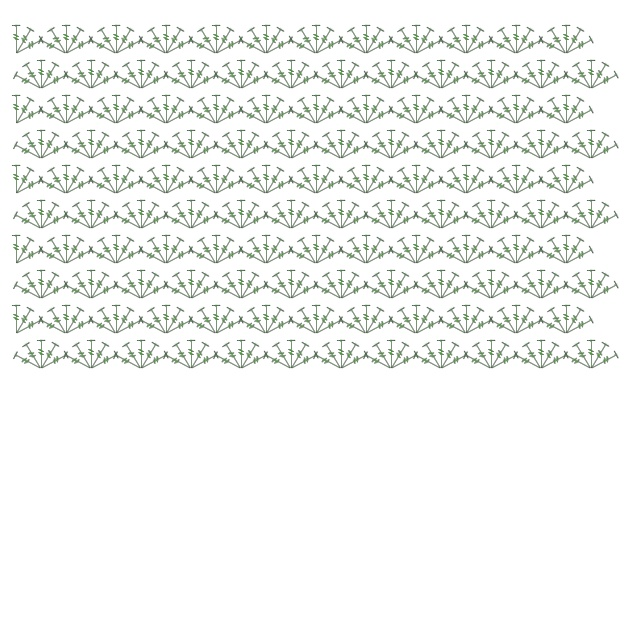fan: (12, 26, 36, 57), (46, 26, 70, 57), (62, 26, 86, 57), (96, 26, 120, 57), (112, 26, 136, 57), (146, 26, 170, 57), (162, 26, 186, 57), (196, 26, 220, 57), (212, 26, 236, 57), (246, 26, 270, 57), (262, 26, 286, 57), (296, 26, 320, 57), (312, 26, 336, 57), (346, 26, 370, 57), (362, 26, 386, 57), (396, 26, 420, 57), (412, 26, 436, 57), (446, 26, 470, 57), (462, 26, 486, 57), (496, 26, 520, 57), (512, 26, 536, 57), (546, 26, 570, 57), (562, 26, 586, 57), (21, 61, 45, 92), (37, 61, 61, 92), (71, 61, 95, 92), (87, 61, 111, 92), (121, 61, 145, 92), (137, 61, 161, 92), (171, 61, 195, 92), (187, 61, 211, 92), (221, 61, 245, 92), (237, 61, 261, 92), (271, 61, 295, 92), (287, 61, 311, 92), (321, 61, 345, 92), (337, 61, 361, 92), (371, 61, 395, 92), (387, 61, 411, 92), (421, 61, 445, 92), (437, 61, 461, 92), (471, 61, 495, 92), (487, 61, 511, 92), (521, 61, 545, 92), (537, 61, 561, 92), (571, 61, 595, 92), (587, 61, 611, 92), (12, 96, 36, 127), (46, 96, 70, 127), (62, 96, 86, 127), (96, 96, 120, 127), (112, 96, 136, 127), (146, 96, 170, 127), (162, 96, 186, 127), (196, 96, 220, 127), (212, 96, 236, 127), (246, 96, 270, 127), (262, 96, 286, 127), (296, 96, 320, 127), (312, 96, 336, 127), (346, 96, 370, 127), (362, 96, 386, 127), (396, 96, 420, 127), (412, 96, 436, 127), (446, 96, 470, 127), (462, 96, 486, 127), (496, 96, 520, 127), (512, 96, 536, 127), (546, 96, 570, 127), (562, 96, 586, 127), (21, 131, 45, 162), (37, 131, 61, 162), (71, 131, 95, 162), (87, 131, 111, 162), (121, 131, 145, 162), (137, 131, 161, 162), (171, 131, 195, 162), (187, 131, 211, 162), (221, 131, 245, 162), (237, 131, 261, 162), (271, 131, 295, 162), (287, 131, 311, 162), (321, 131, 345, 162), (337, 131, 361, 162), (371, 131, 395, 162), (387, 131, 411, 162), (421, 131, 445, 162), (437, 131, 461, 162), (471, 131, 495, 162), (487, 131, 511, 162), (521, 131, 545, 162), (537, 131, 561, 162), (571, 131, 595, 162), (587, 131, 611, 162), (12, 166, 36, 197), (46, 166, 70, 197), (62, 166, 86, 197), (96, 166, 120, 197), (112, 166, 136, 197), (146, 166, 170, 197), (162, 166, 186, 197), (196, 166, 220, 197), (212, 166, 236, 197), (246, 166, 270, 197), (262, 166, 286, 197), (296, 166, 320, 197), (312, 166, 336, 197), (346, 166, 370, 197), (362, 166, 386, 197), (396, 166, 420, 197), (412, 166, 436, 197), (446, 166, 470, 197), (462, 166, 486, 197), (496, 166, 520, 197), (512, 166, 536, 197), (546, 166, 570, 197), (562, 166, 586, 197), (21, 201, 45, 232), (37, 201, 61, 232), (71, 201, 95, 232), (87, 201, 111, 232), (121, 201, 145, 232), (137, 201, 161, 232), (171, 201, 195, 232), (187, 201, 211, 232), (221, 201, 245, 232), (237, 201, 261, 232), (271, 201, 295, 232), (287, 201, 311, 232), (321, 201, 345, 232), (337, 201, 361, 232), (371, 201, 395, 232), (387, 201, 411, 232), (421, 201, 445, 232), (437, 201, 461, 232), (471, 201, 495, 232), (487, 201, 511, 232), (521, 201, 545, 232), (537, 201, 561, 232), (571, 201, 595, 232), (587, 201, 611, 232), (12, 236, 36, 267), (46, 236, 70, 267), (62, 236, 86, 267), (96, 236, 120, 267), (112, 236, 136, 267), (146, 236, 170, 267), (162, 236, 186, 267), (196, 236, 220, 267), (212, 236, 236, 267), (246, 236, 270, 267), (262, 236, 286, 267), (296, 236, 320, 267), (312, 236, 336, 267), (346, 236, 370, 267), (362, 236, 386, 267), (396, 236, 420, 267), (412, 236, 436, 267), (446, 236, 470, 267), (462, 236, 486, 267), (496, 236, 520, 267), (512, 236, 536, 267), (546, 236, 570, 267), (562, 236, 586, 267), (21, 271, 45, 302), (37, 271, 61, 302), (71, 271, 95, 302), (87, 271, 111, 302), (121, 271, 145, 302), (137, 271, 161, 302), (171, 271, 195, 302), (187, 271, 211, 302), (221, 271, 245, 302), (237, 271, 261, 302), (271, 271, 295, 302), (287, 271, 311, 302), (321, 271, 345, 302), (337, 271, 361, 302), (371, 271, 395, 302), (387, 271, 411, 302), (421, 271, 445, 302), (437, 271, 461, 302), (471, 271, 495, 302), (487, 271, 511, 302), (521, 271, 545, 302), (537, 271, 561, 302), (571, 271, 595, 302), (587, 271, 611, 302), (12, 306, 36, 337), (46, 306, 70, 337), (62, 306, 86, 337), (96, 306, 120, 337), (112, 306, 136, 337), (146, 306, 170, 337), (162, 306, 186, 337), (196, 306, 220, 337), (212, 306, 236, 337), (246, 306, 270, 337), (262, 306, 286, 337), (296, 306, 320, 337), (312, 306, 336, 337), (346, 306, 370, 337), (362, 306, 386, 337), (396, 306, 420, 337), (412, 306, 436, 337), (446, 306, 470, 337), (462, 306, 486, 337), (496, 306, 520, 337), (512, 306, 536, 337), (546, 306, 570, 337), (562, 306, 586, 337), (21, 341, 45, 372), (37, 341, 61, 372), (71, 341, 95, 372), (87, 341, 111, 372), (121, 341, 145, 372), (137, 341, 161, 372), (171, 341, 195, 372), (187, 341, 211, 372), (221, 341, 245, 372), (237, 341, 261, 372), (271, 341, 295, 372), (287, 341, 311, 372), (321, 341, 345, 372), (337, 341, 361, 372), (371, 341, 395, 372), (387, 341, 411, 372), (421, 341, 445, 372), (437, 341, 461, 372), (471, 341, 495, 372), (487, 341, 511, 372), (521, 341, 545, 372), (537, 341, 561, 372), (571, 341, 595, 372), (587, 341, 611, 372), (14, 36, 45, 58), (37, 36, 68, 58), (64, 36, 95, 58), (87, 36, 118, 58), (114, 36, 145, 58), (137, 36, 168, 58), (164, 36, 195, 58), (187, 36, 218, 58), (214, 36, 245, 58), (237, 36, 268, 58), (264, 36, 295, 58), (287, 36, 318, 58), (314, 36, 345, 58), (337, 36, 368, 58), (364, 36, 395, 58), (387, 36, 418, 58), (414, 36, 445, 58), (437, 36, 468, 58), (464, 36, 495, 58), (487, 36, 518, 58), (514, 36, 545, 58), (537, 36, 568, 58), (564, 36, 595, 58), (12, 71, 43, 93), (39, 71, 70, 93), (62, 71, 93, 93), (89, 71, 120, 93), (112, 71, 143, 93), (139, 71, 170, 93), (162, 71, 193, 93), (189, 71, 220, 93), (212, 71, 243, 93), (239, 71, 270, 93), (262, 71, 293, 93), (289, 71, 320, 93), (312, 71, 343, 93), (339, 71, 370, 93), (362, 71, 393, 93), (389, 71, 420, 93), (412, 71, 443, 93), (439, 71, 470, 93), (462, 71, 493, 93), (489, 71, 520, 93), (512, 71, 543, 93), (539, 71, 570, 93), (562, 71, 593, 93), (589, 71, 620, 93), (14, 106, 45, 128), (37, 106, 68, 128), (64, 106, 95, 128), (87, 106, 118, 128), (114, 106, 145, 128), (137, 106, 168, 128), (164, 106, 195, 128), (187, 106, 218, 128), (214, 106, 245, 128), (237, 106, 268, 128), (264, 106, 295, 128), (287, 106, 318, 128), (314, 106, 345, 128), (337, 106, 368, 128), (364, 106, 395, 128), (387, 106, 418, 128), (414, 106, 445, 128), (437, 106, 468, 128), (464, 106, 495, 128), (487, 106, 518, 128), (514, 106, 545, 128), (537, 106, 568, 128), (564, 106, 595, 128), (12, 141, 43, 163), (39, 141, 70, 163), (62, 141, 93, 163), (89, 141, 120, 163), (112, 141, 143, 163), (139, 141, 170, 163), (162, 141, 193, 163), (189, 141, 220, 163), (212, 141, 243, 163), (239, 141, 270, 163), (262, 141, 293, 163), (289, 141, 320, 163), (312, 141, 343, 163), (339, 141, 370, 163), (362, 141, 393, 163), (389, 141, 420, 163), (412, 141, 443, 163), (439, 141, 470, 163), (462, 141, 493, 163), (489, 141, 520, 163), (512, 141, 543, 163), (539, 141, 570, 163), (562, 141, 593, 163), (589, 141, 620, 163), (14, 176, 45, 198), (37, 176, 68, 198), (64, 176, 95, 198), (87, 176, 118, 198), (114, 176, 145, 198), (137, 176, 168, 198), (164, 176, 195, 198), (187, 176, 218, 198), (214, 176, 245, 198), (237, 176, 268, 198), (264, 176, 295, 198), (287, 176, 318, 198), (314, 176, 345, 198), (337, 176, 368, 198), (364, 176, 395, 198), (387, 176, 418, 198), (414, 176, 445, 198), (437, 176, 468, 198), (464, 176, 495, 198), (487, 176, 518, 198), (514, 176, 545, 198), (537, 176, 568, 198), (564, 176, 595, 198), (12, 211, 43, 233), (39, 211, 70, 233), (62, 211, 93, 233), (89, 211, 120, 233), (112, 211, 143, 233), (139, 211, 170, 233), (162, 211, 193, 233), (189, 211, 220, 233), (212, 211, 243, 233), (239, 211, 270, 233), (262, 211, 293, 233), (289, 211, 320, 233), (312, 211, 343, 233), (339, 211, 370, 233), (362, 211, 393, 233), (389, 211, 420, 233), (412, 211, 443, 233), (439, 211, 470, 233), (462, 211, 493, 233), (489, 211, 520, 233), (512, 211, 543, 233), (539, 211, 570, 233), (562, 211, 593, 233), (589, 211, 620, 233), (14, 246, 45, 268), (37, 246, 68, 268), (64, 246, 95, 268), (87, 246, 118, 268), (114, 246, 145, 268), (137, 246, 168, 268), (164, 246, 195, 268), (187, 246, 218, 268), (214, 246, 245, 268), (237, 246, 268, 268), (264, 246, 295, 268), (287, 246, 318, 268), (314, 246, 345, 268), (337, 246, 368, 268), (364, 246, 395, 268), (387, 246, 418, 268), (414, 246, 445, 268), (437, 246, 468, 268), (464, 246, 495, 268), (487, 246, 518, 268), (514, 246, 545, 268), (537, 246, 568, 268), (564, 246, 595, 268), (12, 281, 43, 303), (39, 281, 70, 303), (62, 281, 93, 303), (89, 281, 120, 303), (112, 281, 143, 303), (139, 281, 170, 303), (162, 281, 193, 303), (189, 281, 220, 303), (212, 281, 243, 303), (239, 281, 270, 303), (262, 281, 293, 303), (289, 281, 320, 303), (312, 281, 343, 303), (339, 281, 370, 303), (362, 281, 393, 303), (389, 281, 420, 303), (412, 281, 443, 303), (439, 281, 470, 303), (462, 281, 493, 303), (489, 281, 520, 303), (512, 281, 543, 303), (539, 281, 570, 303), (562, 281, 593, 303), (589, 281, 620, 303), (14, 316, 45, 338), (37, 316, 68, 338), (64, 316, 95, 338), (87, 316, 118, 338), (114, 316, 145, 338), (137, 316, 168, 338), (164, 316, 195, 338), (187, 316, 218, 338), (214, 316, 245, 338), (237, 316, 268, 338), (264, 316, 295, 338), (287, 316, 318, 338), (314, 316, 345, 338), (337, 316, 368, 338), (364, 316, 395, 338), (387, 316, 418, 338), (414, 316, 445, 338), (437, 316, 468, 338), (464, 316, 495, 338), (487, 316, 518, 338), (514, 316, 545, 338), (537, 316, 568, 338), (564, 316, 595, 338), (12, 351, 43, 373), (39, 351, 70, 373), (62, 351, 93, 373), (89, 351, 120, 373), (112, 351, 143, 373), (139, 351, 170, 373), (162, 351, 193, 373), (189, 351, 220, 373), (212, 351, 243, 373), (239, 351, 270, 373), (262, 351, 293, 373), (289, 351, 320, 373), (312, 351, 343, 373), (339, 351, 370, 373), (362, 351, 393, 373), (389, 351, 420, 373), (412, 351, 443, 373), (439, 351, 470, 373), (462, 351, 493, 373), (489, 351, 520, 373), (512, 351, 543, 373), (539, 351, 570, 373), (562, 351, 593, 373), (589, 351, 620, 373), (11, 24, 21, 54), (61, 24, 71, 54), (111, 24, 121, 54), (161, 24, 171, 54), (211, 24, 221, 54), (261, 24, 271, 54), (311, 24, 321, 54), (361, 24, 371, 54), (411, 24, 421, 54), (461, 24, 471, 54), (511, 24, 521, 54), (561, 24, 571, 54), (36, 59, 46, 89), (86, 59, 96, 89), (136, 59, 146, 89), (186, 59, 196, 89), (236, 59, 246, 89), (286, 59, 296, 89), (336, 59, 346, 89), (386, 59, 396, 89), (436, 59, 446, 89), (486, 59, 496, 89), (536, 59, 546, 89), (586, 59, 596, 89), (11, 94, 21, 124), (61, 94, 71, 124), (111, 94, 121, 124), (161, 94, 171, 124), (211, 94, 221, 124), (261, 94, 271, 124), (311, 94, 321, 124), (361, 94, 371, 124), (411, 94, 421, 124), (461, 94, 471, 124), (511, 94, 521, 124), (561, 94, 571, 124), (36, 129, 46, 159), (86, 129, 96, 159), (136, 129, 146, 159), (186, 129, 196, 159), (236, 129, 246, 159), (286, 129, 296, 159), (336, 129, 346, 159), (386, 129, 396, 159), (436, 129, 446, 159), (486, 129, 496, 159), (536, 129, 546, 159), (586, 129, 596, 159), (11, 164, 21, 194), (61, 164, 71, 194), (111, 164, 121, 194), (161, 164, 171, 194), (211, 164, 221, 194), (261, 164, 271, 194), (311, 164, 321, 194), (361, 164, 371, 194), (411, 164, 421, 194), (461, 164, 471, 194), (511, 164, 521, 194), (561, 164, 571, 194), (36, 199, 46, 229), (86, 199, 96, 229), (136, 199, 146, 229), (186, 199, 196, 229), (236, 199, 246, 229), (286, 199, 296, 229), (336, 199, 346, 229), (386, 199, 396, 229), (436, 199, 446, 229), (486, 199, 496, 229), (536, 199, 546, 229), (586, 199, 596, 229), (11, 234, 21, 264), (61, 234, 71, 264), (111, 234, 121, 264), (161, 234, 171, 264), (211, 234, 221, 264), (261, 234, 271, 264), (311, 234, 321, 264), (361, 234, 371, 264), (411, 234, 421, 264), (461, 234, 471, 264), (511, 234, 521, 264), (561, 234, 571, 264), (36, 269, 46, 299), (86, 269, 96, 299), (136, 269, 146, 299), (186, 269, 196, 299), (236, 269, 246, 299), (286, 269, 296, 299), (336, 269, 346, 299), (386, 269, 396, 299), (436, 269, 446, 299), (486, 269, 496, 299), (536, 269, 546, 299), (586, 269, 596, 299), (11, 304, 21, 334), (61, 304, 71, 334), (111, 304, 121, 334), (161, 304, 171, 334), (211, 304, 221, 334), (261, 304, 271, 334), (311, 304, 321, 334), (361, 304, 371, 334), (411, 304, 421, 334), (461, 304, 471, 334), (511, 304, 521, 334), (561, 304, 571, 334), (36, 339, 46, 369), (86, 339, 96, 369), (136, 339, 146, 369), (186, 339, 196, 369), (236, 339, 246, 369), (286, 339, 296, 369), (336, 339, 346, 369), (386, 339, 396, 369), (436, 339, 446, 369), (486, 339, 496, 369), (536, 339, 546, 369), (586, 339, 596, 369)
